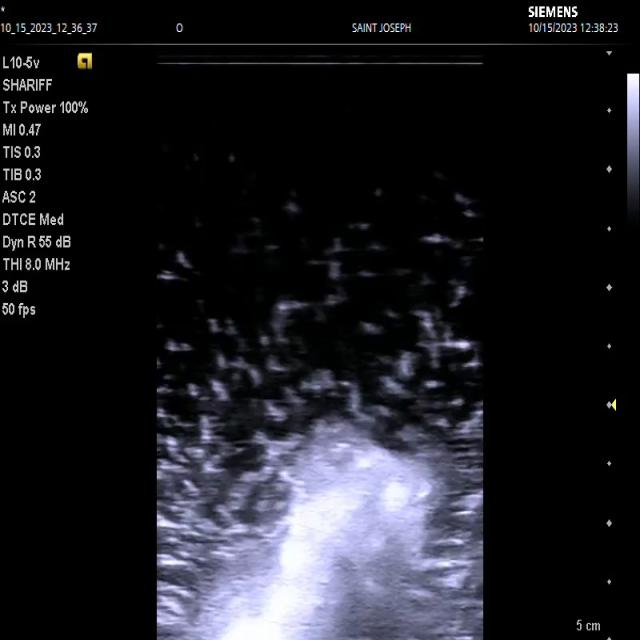tissue: (218, 425, 438, 640)
